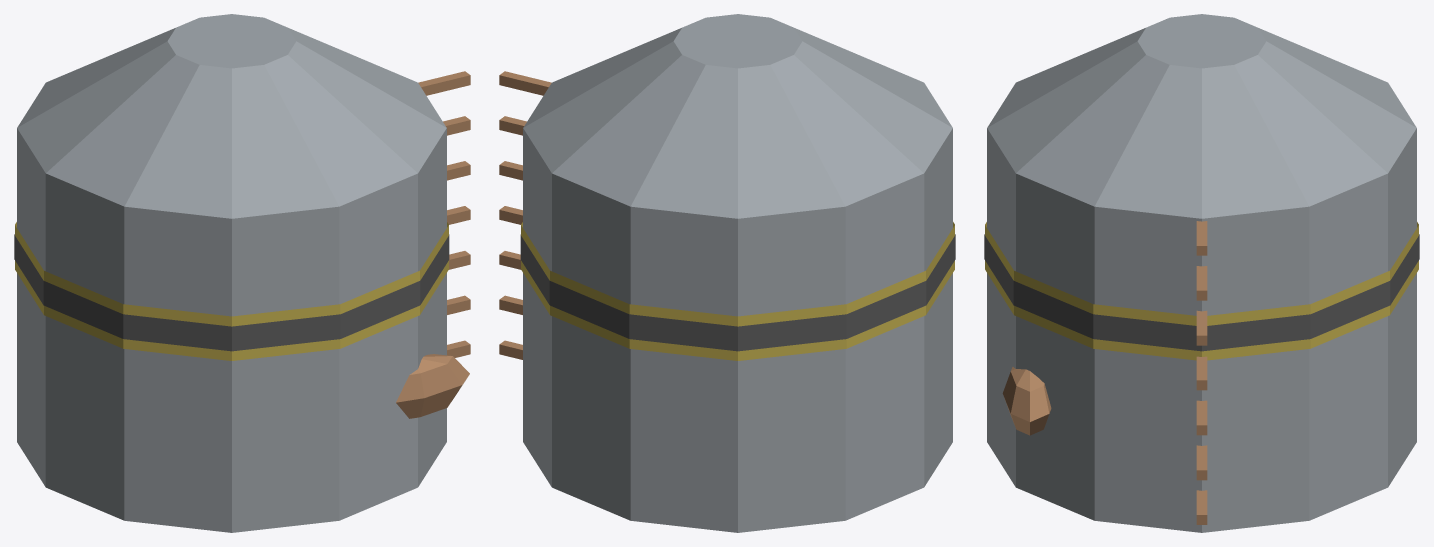
File: valak_tanque_0.glb
3 renders of one model, left to right at view 1: azimuth 30°, elevation 25°; view 2: azimuth 150°, elevation 25°; view 3: azimuth 270°, elevation 25°, orthographic.
Parts seen in each view (by area): view 1: tanque; view 2: tanque; view 3: tanque.
Boxes of the visible parts, x1,y1,x2,y2 form: tanque: (14, 14, 470, 532); tanque: (499, 14, 955, 532); tanque: (984, 14, 1419, 532).
Size of the model in its own units: 1.79 by 1.62 by 1.59.
